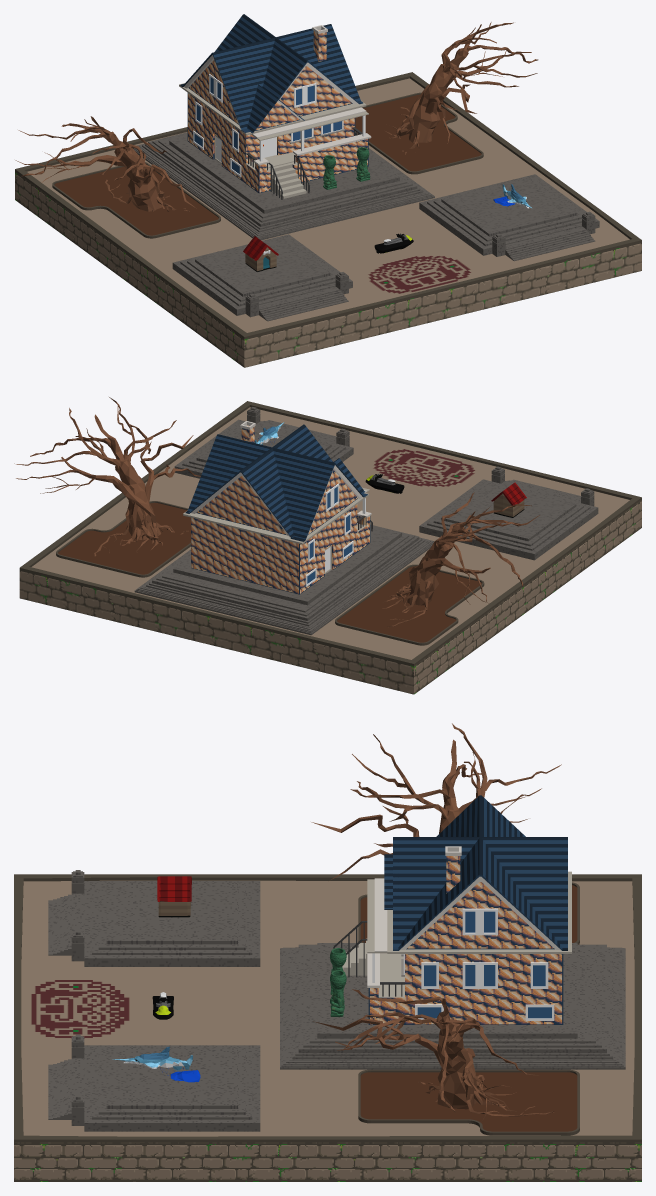
3 renders of one model, top to bottom at view 1: azimuth 30°, elevation 25°; view 2: azimuth 150°, elevation 25°; view 3: azimuth 270°, elevation 25°, orthographic. The views are drawn at different scales.
Visible parts, largest first — view 1: Cube.011, Cube.430, OBJRANDOM_DOGHOUSE; view 2: Cube.011, Cube.430, OBJRANDOM_DOGHOUSE, VEHICLES_WATERBIKE; view 3: Cube.011, Cube.430, OBJRANDOM_DOGHOUSE, ANIMAL_PEZ_ESPADA.
Boxes of the visible parts, box(x1,y1,x2,y2) form: Cube.011: box(15, 22, 641, 367); Cube.430: box(179, 14, 371, 199); OBJRANDOM_DOGHOUSE: box(243, 236, 278, 271); Cube.011: box(14, 397, 641, 694); Cube.430: box(183, 421, 372, 594); OBJRANDOM_DOGHOUSE: box(491, 482, 526, 517); VEHICLES_WATERBIKE: box(365, 474, 404, 493); Cube.011: box(14, 723, 641, 1181); Cube.430: box(333, 795, 571, 1024); OBJRANDOM_DOGHOUSE: box(157, 876, 191, 917); ANIMAL_PEZ_ESPADA: box(112, 1046, 200, 1082).
Bounding box in the file's own units: 5099 × 1761 × 4000.
Materials: 35 (6 with a texture image).
